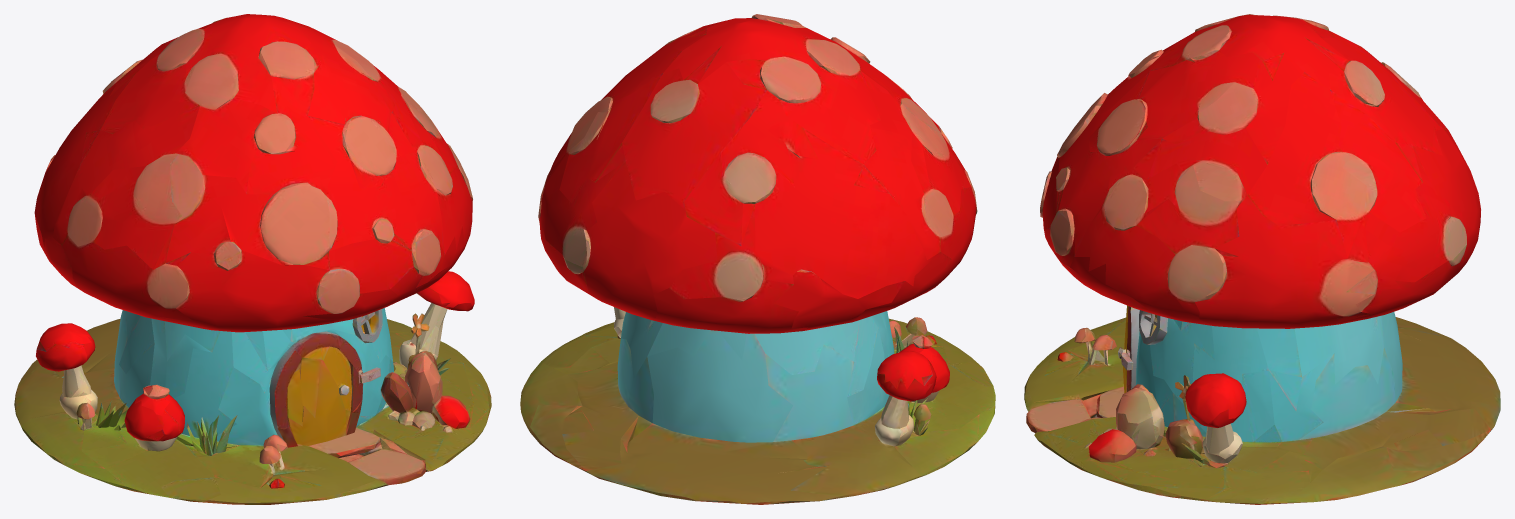
The model's file is mushroom.glb.
3 renders of one model, left to right at view 1: azimuth 30°, elevation 25°; view 2: azimuth 150°, elevation 25°; view 3: azimuth 270°, elevation 25°, orthographic.
Size of the model in its own units: 1.9 by 1.68 by 1.89.
1 material, 1 textured.
